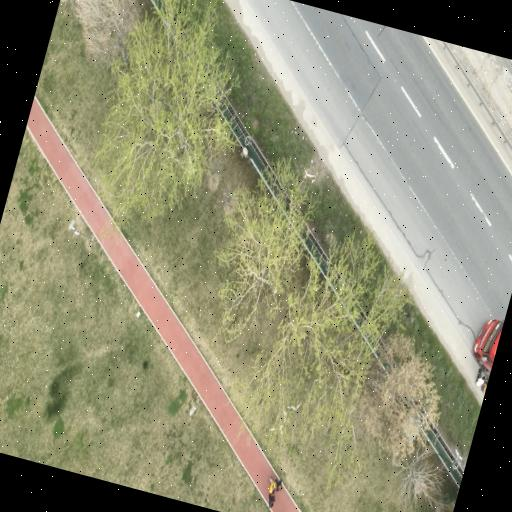person: (268, 477, 281, 507), (268, 477, 276, 507), (268, 477, 275, 494), (475, 376, 484, 387), (274, 478, 281, 491), (268, 494, 274, 507)
truck: (472, 320, 503, 380)
